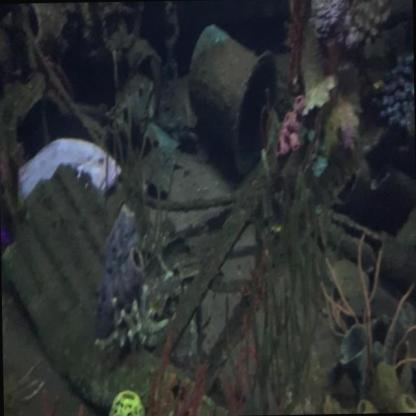fish: (16, 137, 122, 209)
